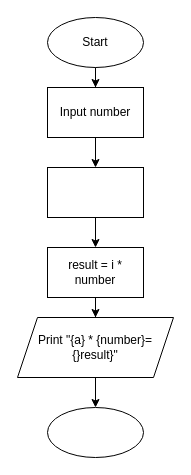
Image size: 191x475. Some labels were removed from this diagram. Each missing label, with the centre of its shape:
End: the point at 95,432
i=1; i<=10; i++: the point at 95,192
